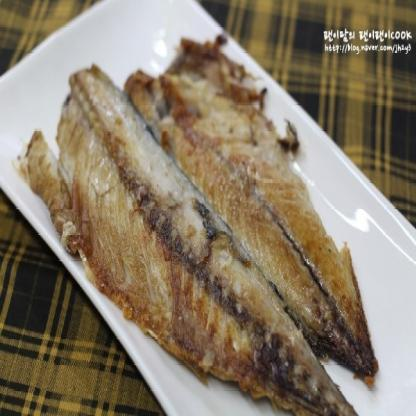Peixe: (20, 38, 380, 416)
